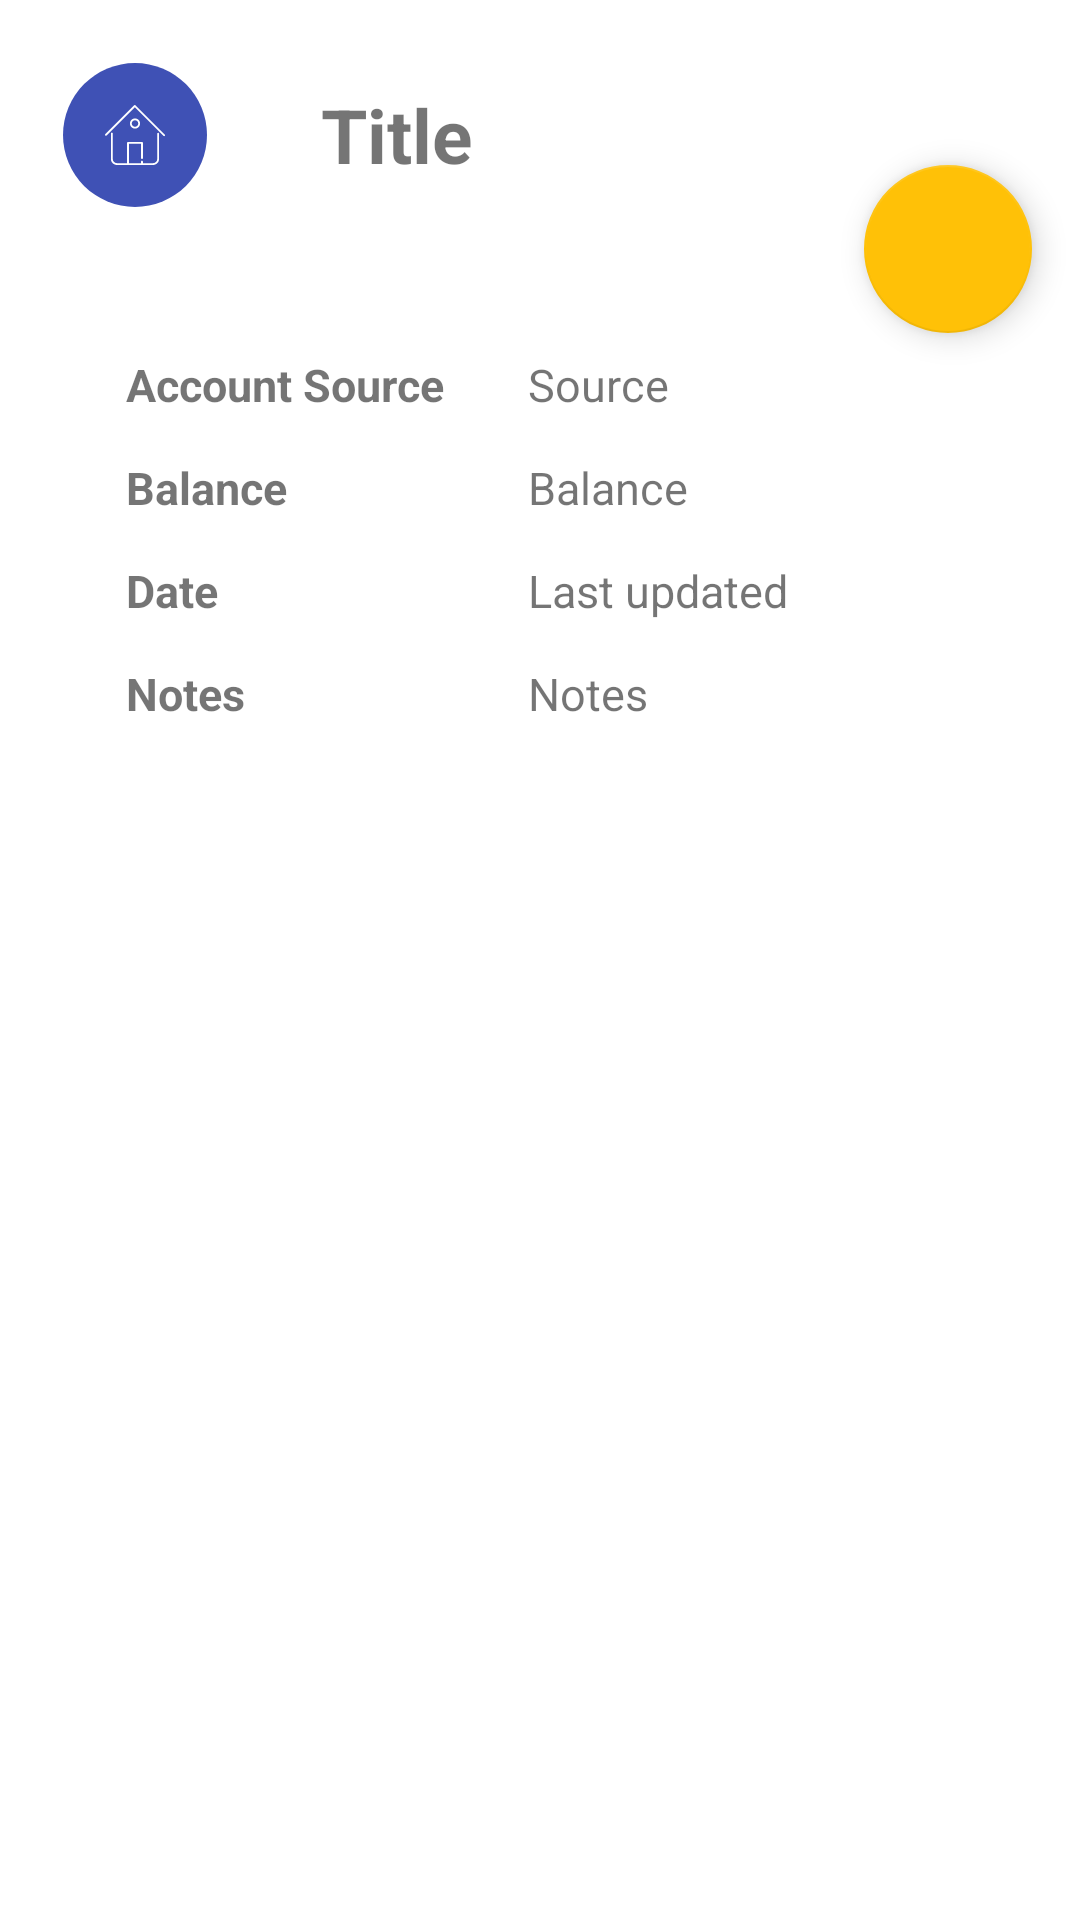

Locate icon controls on the screen. Image size 1080*1920, boxes as [x1, y1, x2, y2].
ctg home: [63, 63, 207, 207]
